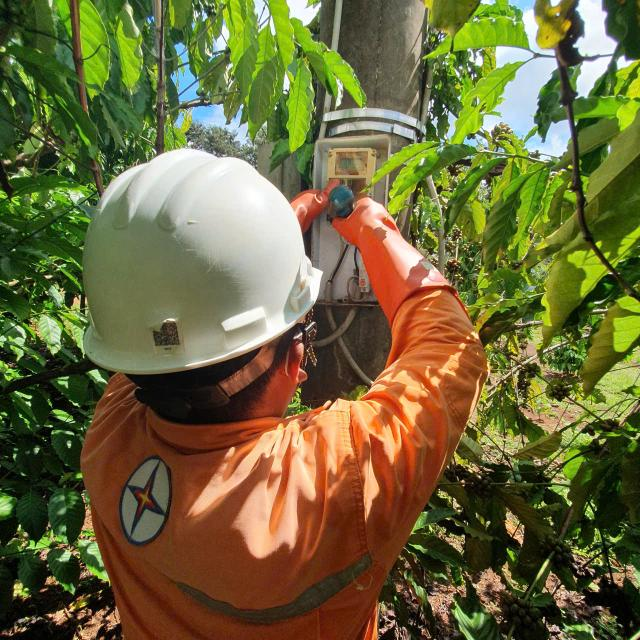gloves: (330, 181, 452, 323), (255, 145, 346, 238)
helmet: (60, 143, 349, 382)
